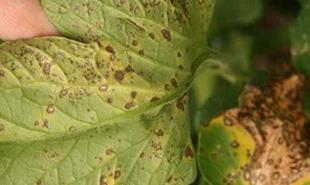Tomato Septoria leaf spot: (0, 0, 220, 185), (212, 79, 310, 185)
